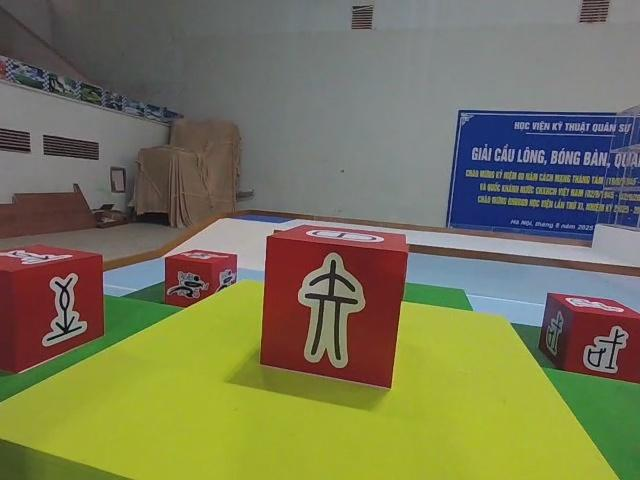R1: (163, 247, 239, 310)
R2 Fake: (257, 220, 412, 390)
R2 Real: (0, 242, 108, 375), (538, 292, 640, 386)
